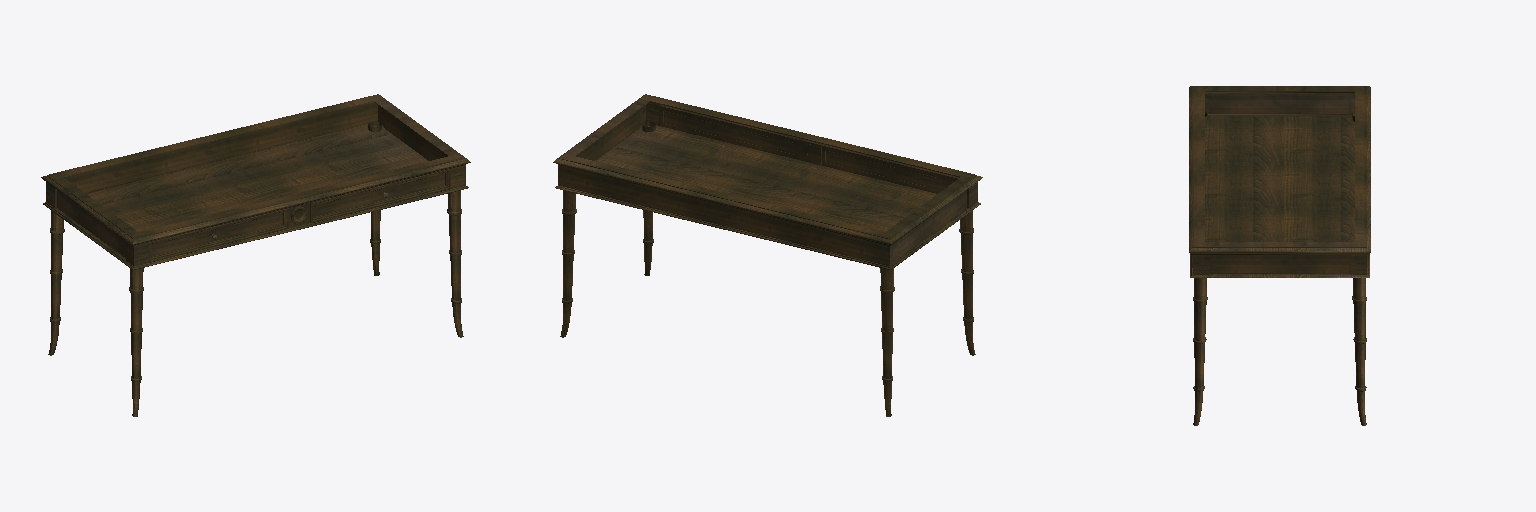
3 views of the same model, side by side, from view 1: azimuth 30°, elevation 25°; view 2: azimuth 150°, elevation 25°; view 3: azimuth 270°, elevation 25° (orthographic).
Parts seen in each view (by area): view 1: solid_002; view 2: solid_002; view 3: solid_002.
Part boxes in pixels (x1,y1,x2,y2): solid_002: (41, 94, 470, 416); solid_002: (553, 94, 982, 416); solid_002: (1189, 86, 1370, 425).
Size of the model in its own units: 1.13 by 0.5729 by 0.5293.
1 materials, 1 textured.